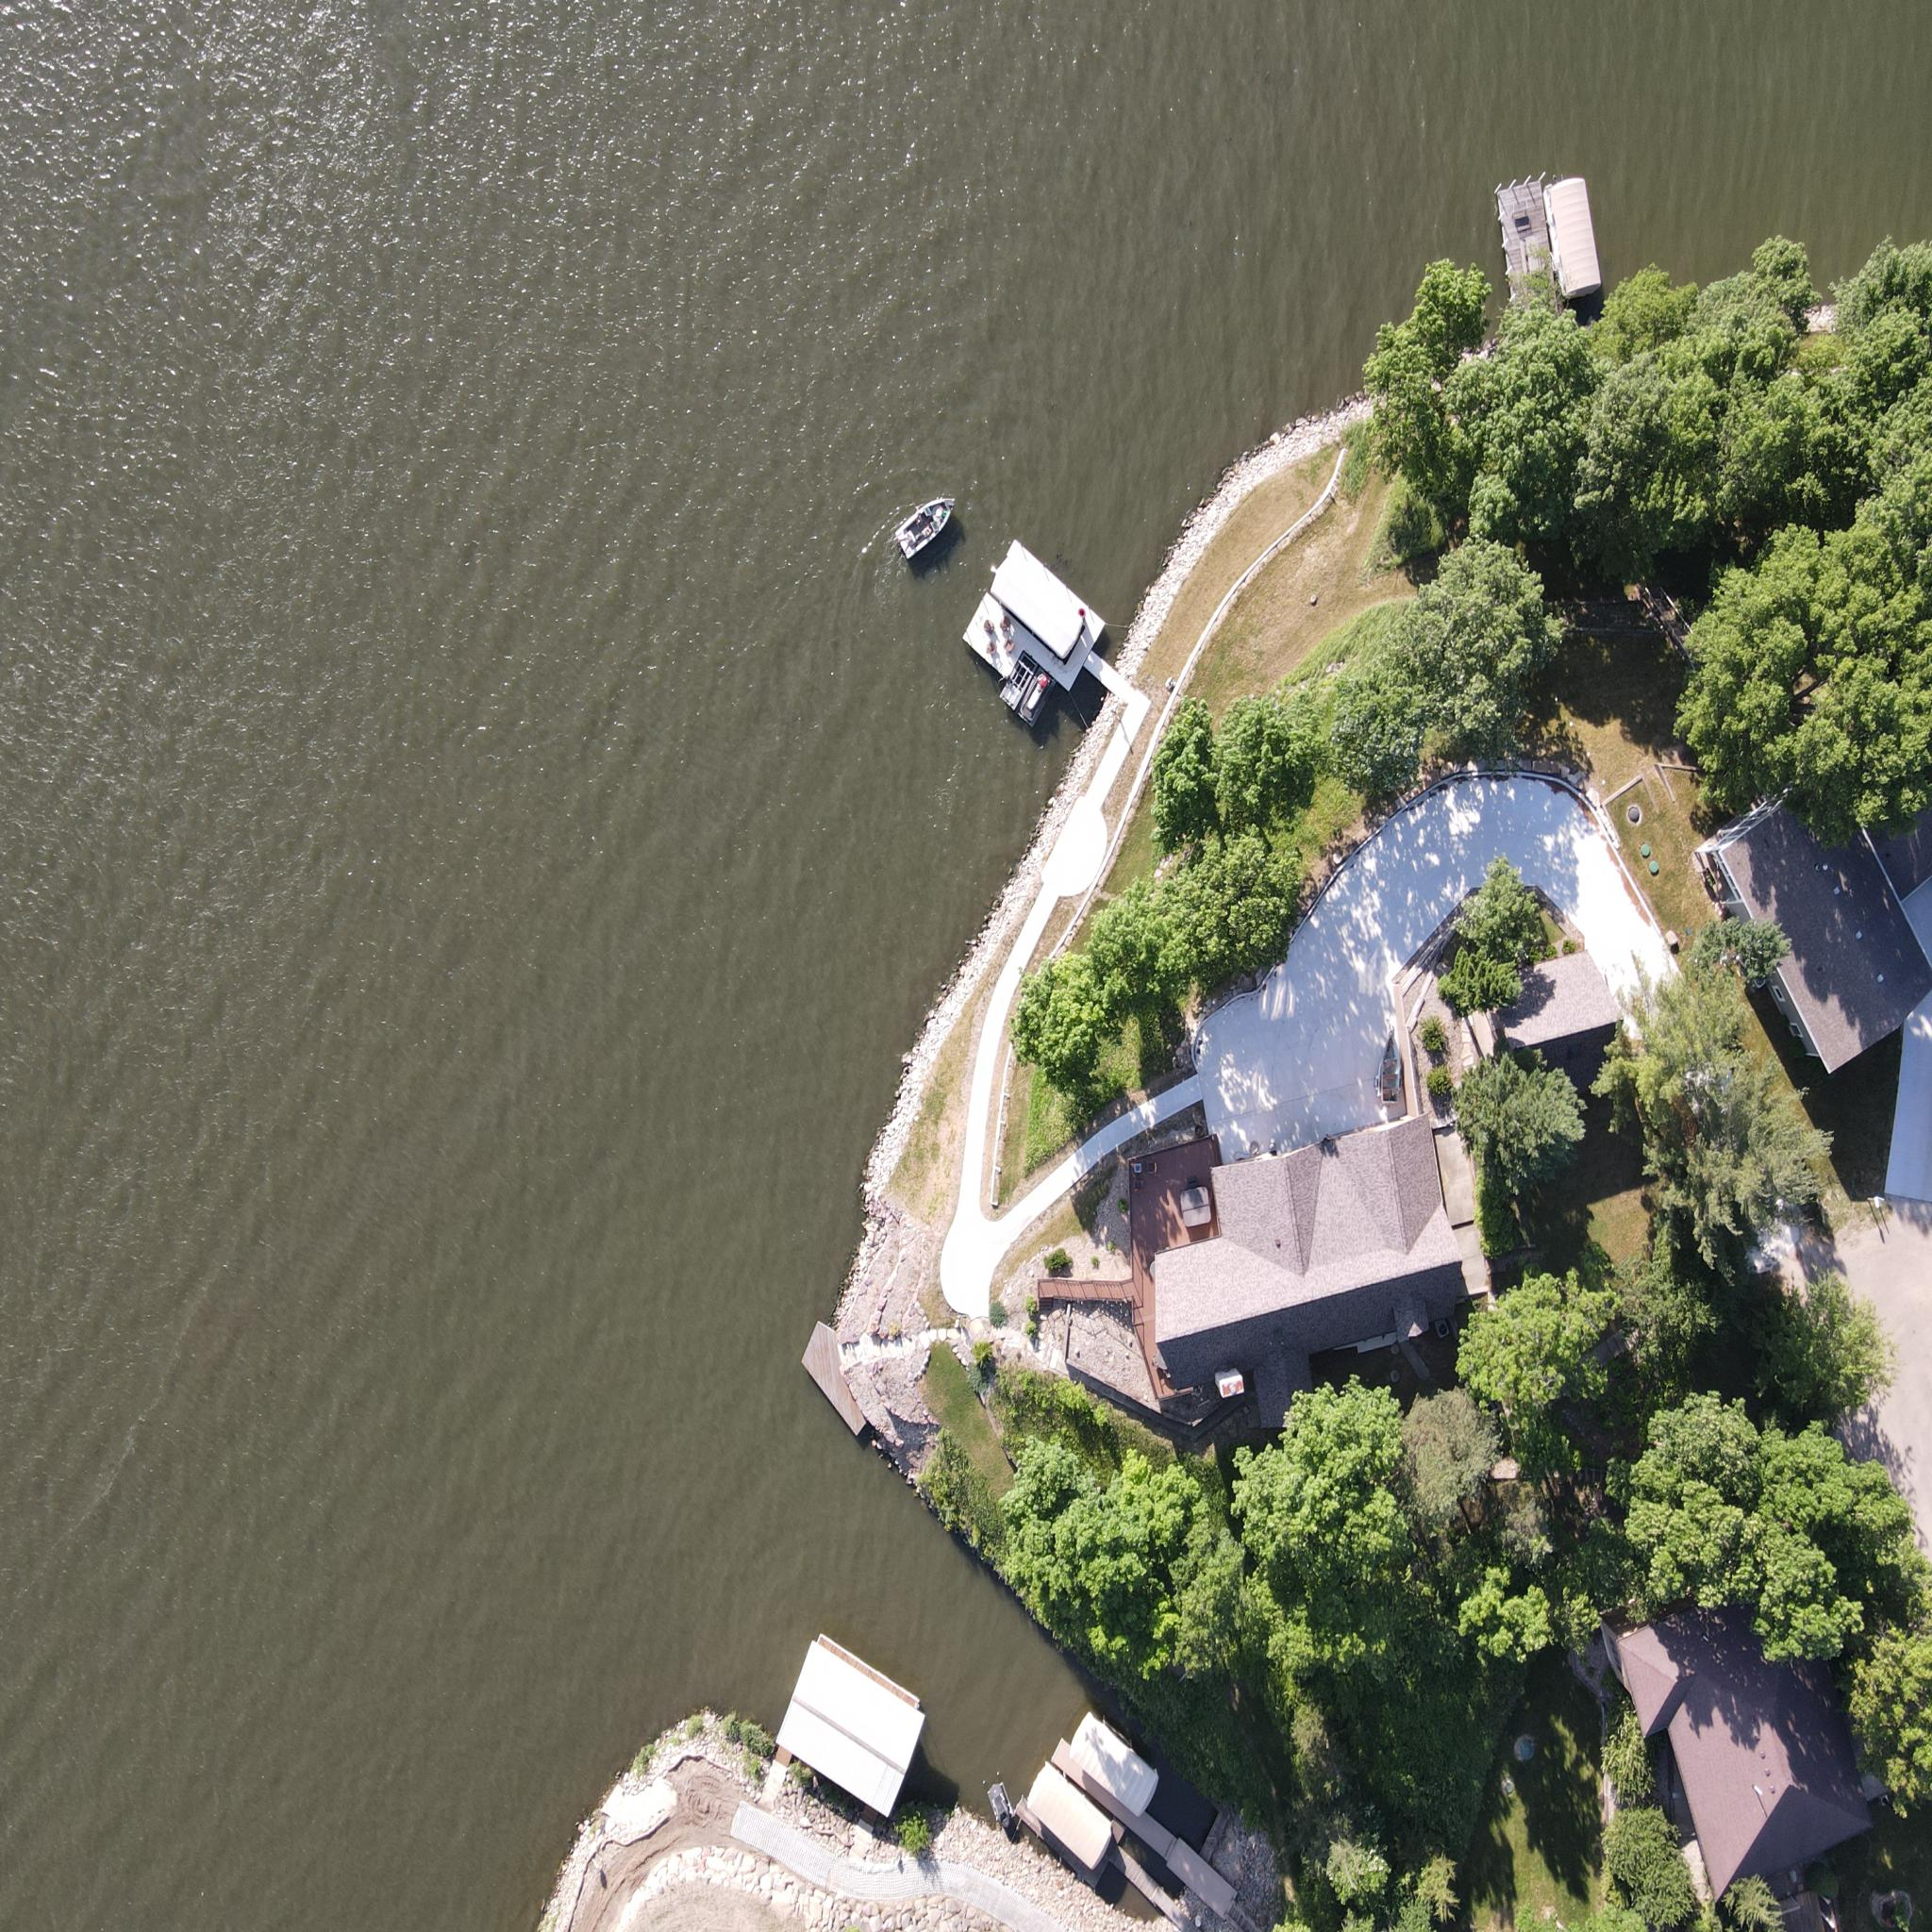boat: (1021, 671, 1060, 732)
dock: (770, 1635, 929, 1874), (1044, 1737, 1249, 1916), (966, 538, 1129, 736), (1486, 172, 1566, 338), (800, 1318, 886, 1451)
jetski: (890, 499, 966, 566), (980, 1776, 1014, 1833)
lift: (982, 550, 1092, 653), (1537, 175, 1615, 299), (1063, 1711, 1162, 1808), (1030, 1762, 1116, 1868)
